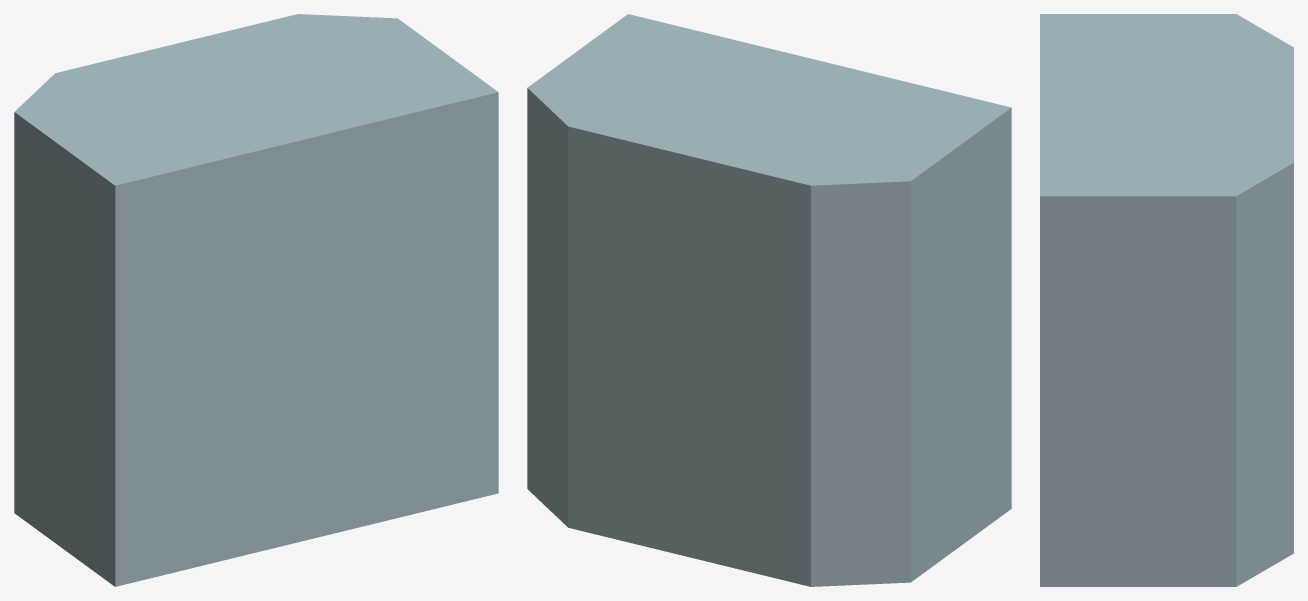
The model's file is de_ice_0.fbx.
The picture shows the model from 3 angles, left to right: view 1: azimuth 30°, elevation 25°; view 2: azimuth 150°, elevation 25°; view 3: azimuth 270°, elevation 25°; orthographic projection. The views are drawn at different scales.
Visible parts, largest first — view 1: Cube.323; view 2: Cube.323; view 3: Cube.323.
Boxes of the visible parts, left/top/right/bottom form: Cube.323: left=14, top=14, right=498, bottom=586; Cube.323: left=527, top=14, right=1011, bottom=586; Cube.323: left=1040, top=14, right=1293, bottom=586.
Bounding box in the file's own units: 176 × 176 × 103.
